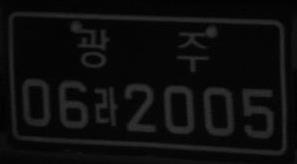0: (202, 85, 236, 138), (163, 83, 196, 135), (20, 77, 51, 127)
2: (123, 82, 157, 134)
5: (241, 86, 276, 140)
6: (57, 79, 90, 130)
광주_D: (76, 26, 210, 73)
라: (93, 86, 118, 128)
